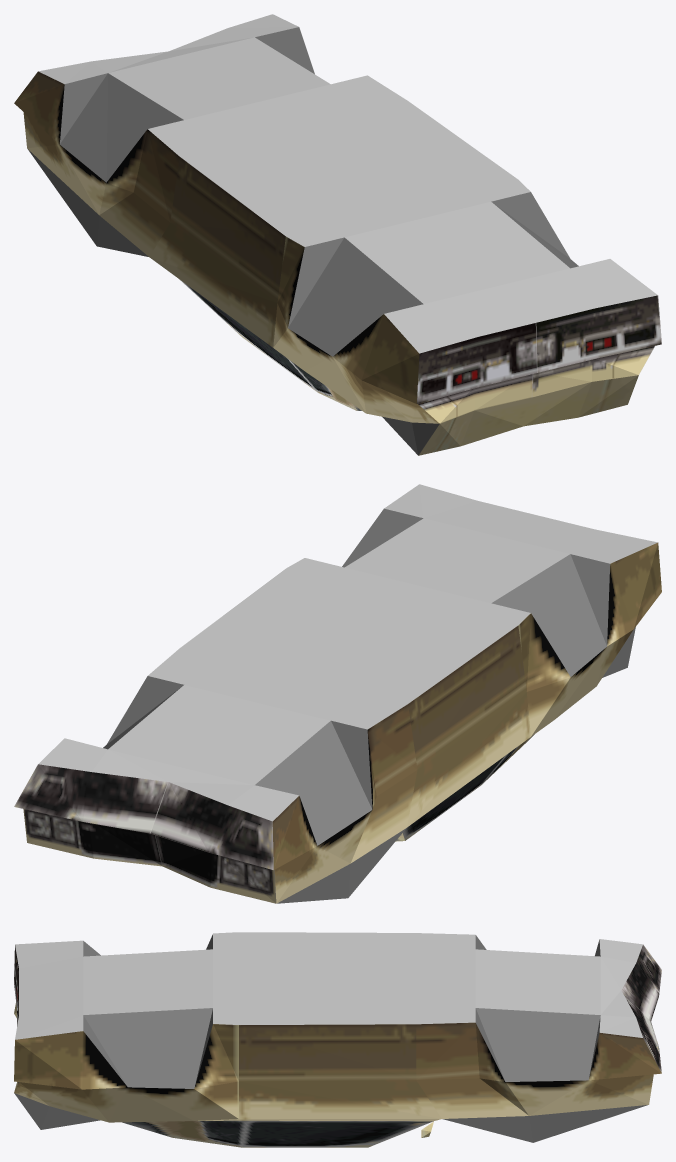
Rendered from CHICAGO_model1_damaged.obj.
3 renders of one model, top to bottom at view 1: azimuth 30°, elevation 25°; view 2: azimuth 150°, elevation 25°; view 3: azimuth 270°, elevation 25°, orthographic. The views are drawn at different scales.
Parts seen in each view (by area): view 1: CHICAGO_model1_damaged; view 2: CHICAGO_model1_damaged; view 3: CHICAGO_model1_damaged.
Part boxes in pixels (bbox=[...]): CHICAGO_model1_damaged: bbox=[14, 14, 661, 455]; CHICAGO_model1_damaged: bbox=[14, 484, 661, 903]; CHICAGO_model1_damaged: bbox=[14, 932, 661, 1147].
Size of the model in its own units: 270 by 160 by 654.
